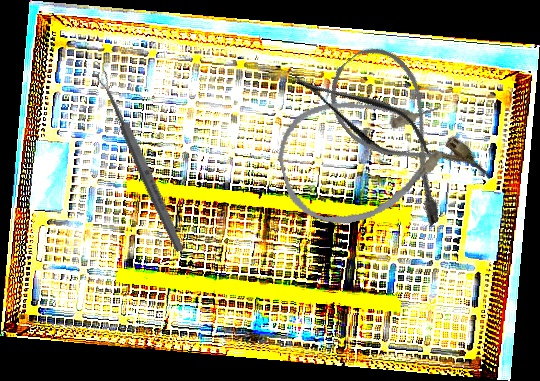Cannula: (312, 33, 495, 231), (268, 76, 462, 237)
Micro Scissor: (282, 54, 442, 175)
Surgical Spoon: (94, 69, 187, 254)
